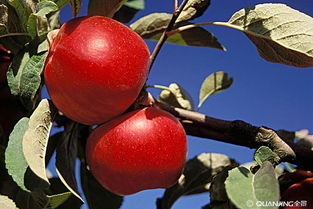apple: (44, 15, 151, 129), (83, 106, 189, 199)
